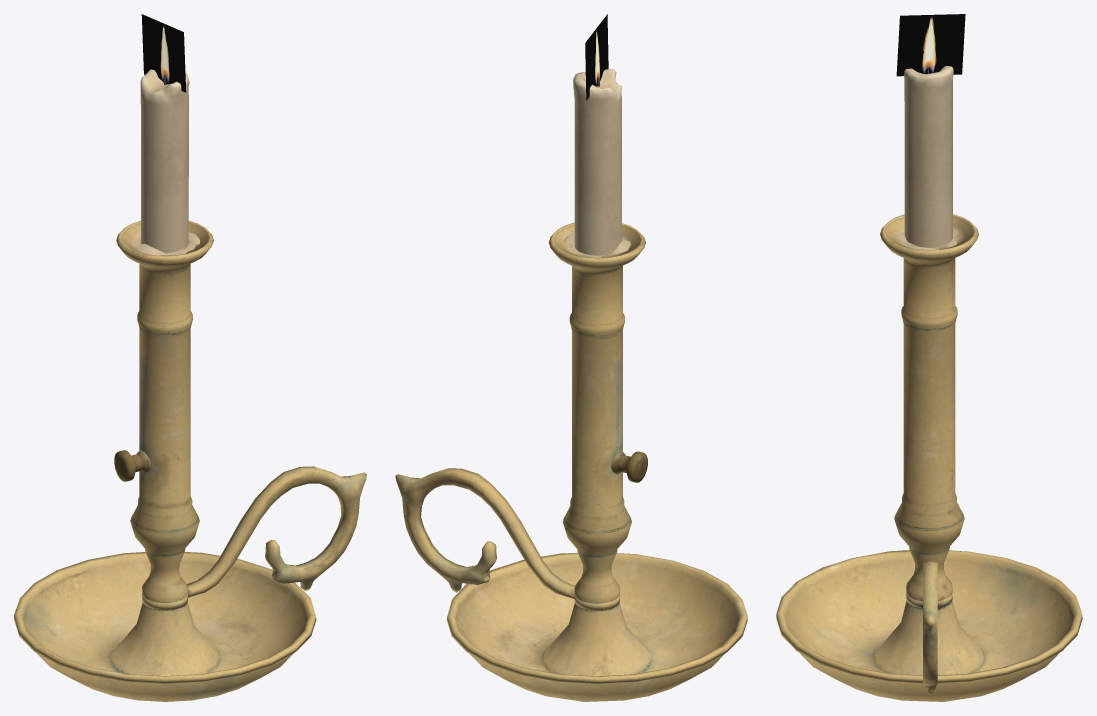
The picture shows the model from 3 angles, left to right: view 1: azimuth 30°, elevation 25°; view 2: azimuth 150°, elevation 25°; view 3: azimuth 270°, elevation 25°; orthographic projection.
Parts seen in each view (by area): view 1: Candle Holder_1, Candle_0, Flame_2; view 2: Candle Holder_1, Candle_0, Flame_2; view 3: Candle Holder_1, Candle_0, Flame_2.
Part boxes in pixels (left/top/right/bottom): Candle Holder_1: left=14, top=220, right=366, bottom=701; Candle_0: left=140, top=69, right=189, bottom=253; Flame_2: left=141, top=14, right=186, bottom=92; Candle Holder_1: left=395, top=222, right=747, bottom=701; Candle_0: left=573, top=69, right=621, bottom=255; Flame_2: left=585, top=14, right=608, bottom=100; Candle Holder_1: left=776, top=214, right=1082, bottom=701; Candle_0: left=904, top=66, right=953, bottom=247; Flame_2: left=896, top=14, right=965, bottom=76.
Bounding box in the file's own units: 0.158 × 0.2923 × 0.1241.
Materials: 3 (3 with a texture image).
